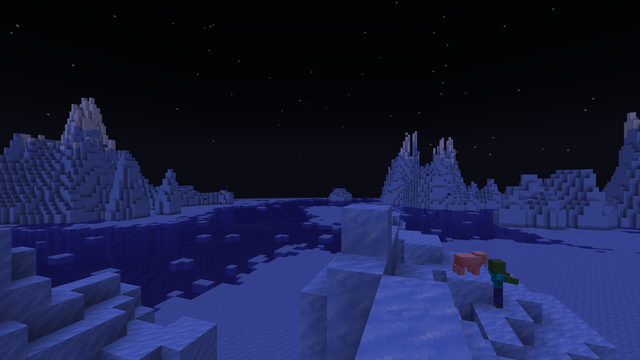cochons: (455, 251, 479, 276)
zombies: (487, 259, 506, 309)
